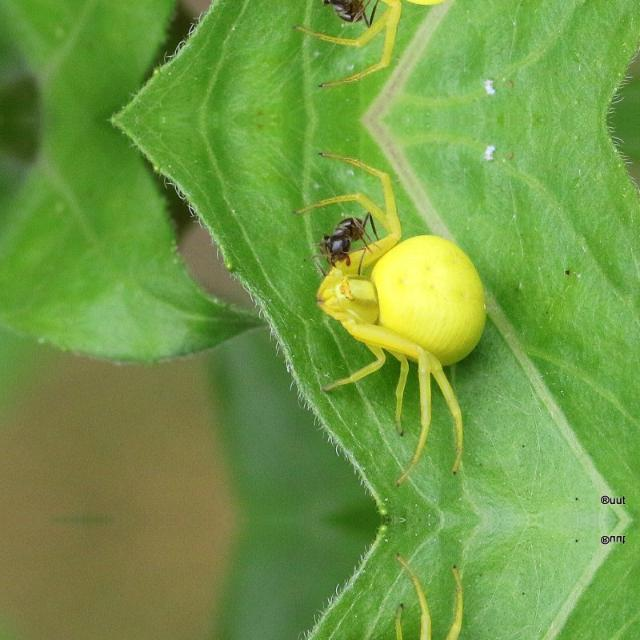Lasius: (316, 196, 384, 274), (314, 0, 384, 44)
